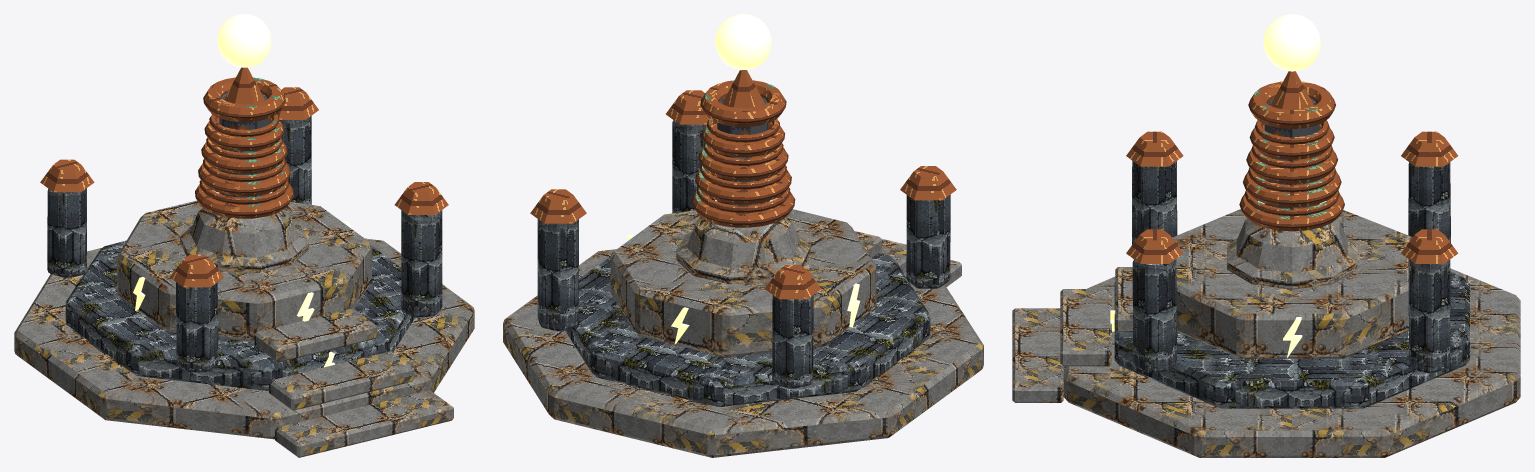
File: storm_altar.glb
3 views of the same model, side by side, from view 1: azimuth 30°, elevation 25°; view 2: azimuth 150°, elevation 25°; view 3: azimuth 270°, elevation 25° (orthographic). The views are drawn at different scales.
Parts seen in each view (by area): view 1: Tier0, Tier2, Tier1, Steps, Posts, Coil, CoilBase, PostCaps, Orb, Crown, Spike, Mast; view 2: Tier0, Tier1, Tier2, Posts, Coil, CoilBase, PostCaps, Orb, Crown, Steps, Spike, Mast; view 3: Tier0, Tier2, Tier1, Posts, Steps, Coil, CoilBase, PostCaps, Orb, Crown, Spike, Mast.
Part boxes in pixels (x1,y1,x2,y2): Tier0: (14, 238, 474, 439); Tier2: (117, 200, 371, 341); Tier1: (65, 240, 414, 390); Steps: (254, 308, 453, 457); Posts: (47, 116, 442, 372); Coil: (195, 114, 293, 218); CoilBase: (180, 207, 308, 272); PostCaps: (40, 87, 448, 287); Orb: (217, 14, 271, 67); Crown: (203, 77, 285, 122); Spike: (224, 67, 264, 104); Mast: (219, 93, 269, 197); Tier0: (503, 249, 983, 457); Tier1: (565, 253, 930, 406); Tier2: (610, 209, 876, 357); Posts: (537, 120, 950, 388); Coil: (691, 118, 795, 227); CoilBase: (676, 216, 810, 284); PostCaps: (530, 90, 956, 299); Orb: (715, 14, 771, 70); Crown: (700, 80, 786, 126); Steps: (854, 231, 961, 286); Spike: (722, 70, 764, 108); Mast: (717, 96, 769, 205); Tier0: (1063, 268, 1520, 457); Tier2: (1172, 209, 1412, 358); Tier1: (1114, 272, 1469, 408); Posts: (1132, 161, 1450, 373); Steps: (1012, 267, 1132, 402); Coil: (1239, 120, 1344, 231); CoilBase: (1227, 219, 1357, 289); PostCaps: (1126, 131, 1458, 263); Orb: (1263, 14, 1320, 71); Crown: (1248, 81, 1335, 129); Spike: (1271, 71, 1313, 109); Mast: (1264, 98, 1319, 208).
Size of the model in its own units: 6.65 by 5.57 by 7.4.
6 materials, 4 textured.
